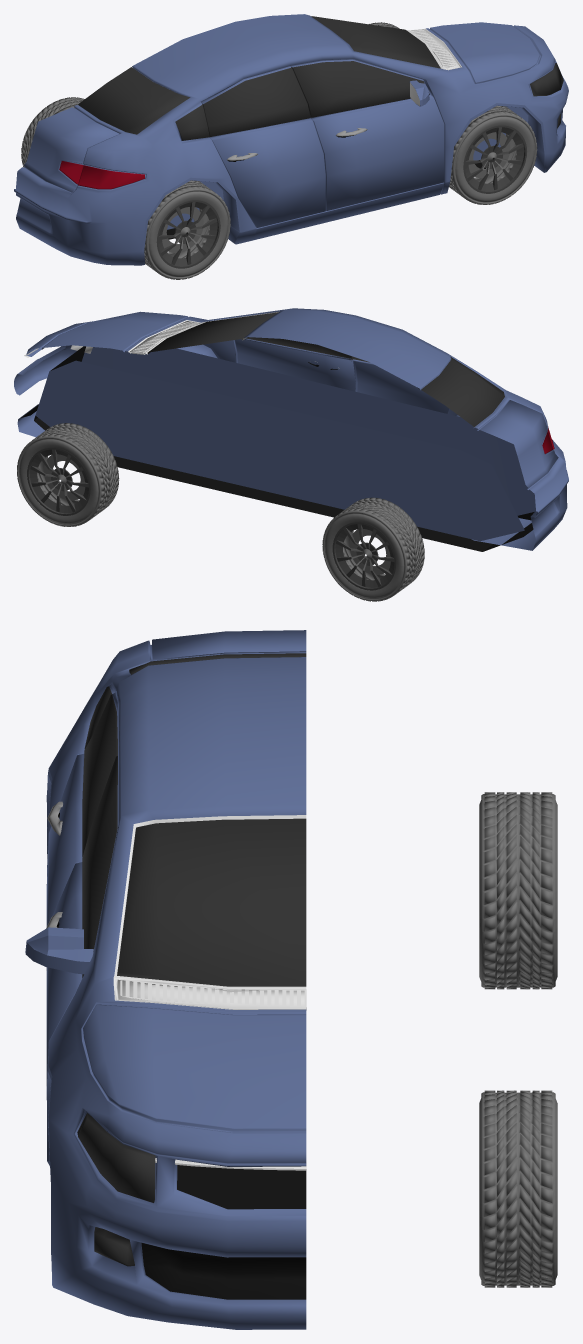
Rendered from carrr.fbx.
The picture shows the model from 3 angles, top to bottom: view 1: azimuth 30°, elevation 25°; view 2: azimuth 150°, elevation 25°; view 3: azimuth 270°, elevation 25°; orthographic projection. The views are drawn at different scales.
Visible parts, largest first — view 1: carr, roda.000, roda.001, roda.002, grade3, Retrovisor.001; view 2: carr, roda.002, roda.003, grade3; view 3: carr, roda.002, roda.003, Retrovisor.001, grade3.
Part boxes in pixels (x1,y1,x2,y2): carr: (14, 14, 568, 265); roda.000: (449, 105, 537, 204); roda.001: (144, 180, 230, 279); roda.002: (21, 97, 84, 167); grade3: (409, 29, 456, 68); Retrovisor.001: (409, 80, 429, 106); carr: (14, 308, 568, 551); roda.002: (322, 497, 424, 601); roda.003: (17, 423, 119, 526); grade3: (130, 321, 201, 354); carr: (46, 630, 306, 1329); roda.002: (479, 792, 557, 989); roda.003: (479, 1090, 557, 1287); Retrovisor.001: (25, 927, 93, 974); grade3: (120, 979, 306, 1010).
Bounding box in the file's own units: 493 × 165 × 217.
